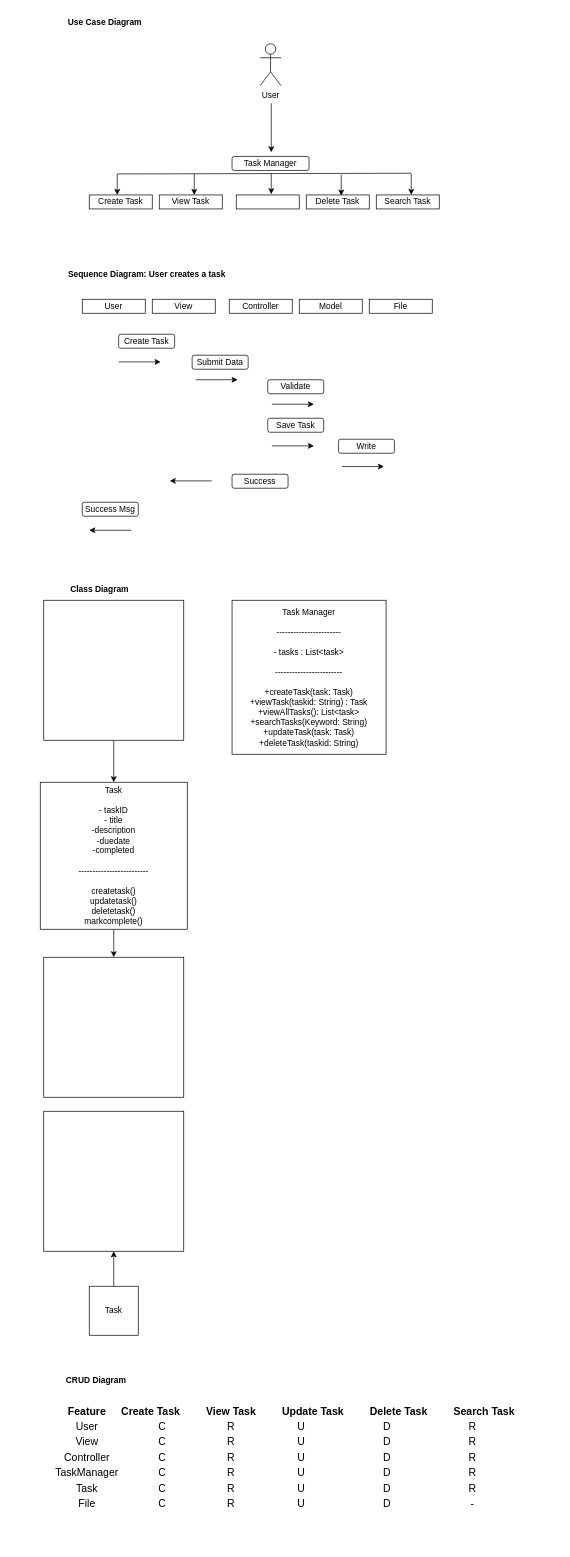
Some shapes in this 570 by 1557 pixel diagram are drawn without their labels. The centre of each missing label's shape, as x and y in pixels:
"Category - categoryid - name --------------------- + rename()" belongs at point (113, 1181).
"SubTask - subtaskid - title - status ------------------------ + markcomplete()" belongs at point (113, 1027).
"Update Task" belongs at point (267, 201).
"User - userid - name - email ----------------------- +login() +logout()" belongs at point (113, 670).
